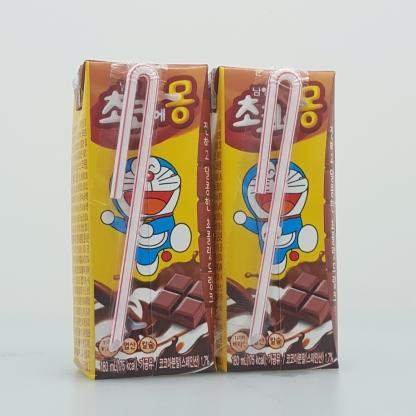---------180ML: (70, 59, 218, 380), (201, 65, 339, 372)
